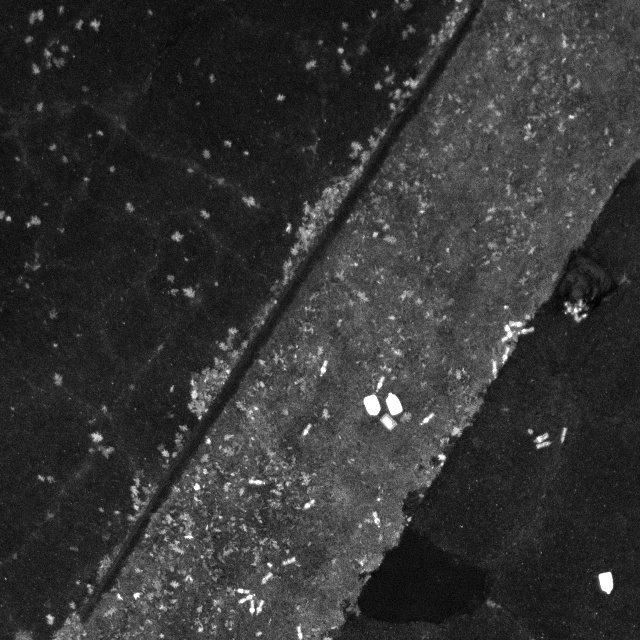bottle: (368, 509, 385, 532), (242, 476, 269, 489), (497, 342, 512, 365), (234, 585, 257, 599), (417, 413, 438, 428), (531, 438, 553, 452), (298, 421, 315, 439), (531, 428, 551, 443), (498, 331, 518, 344), (316, 358, 329, 378), (259, 569, 275, 585), (488, 360, 502, 378), (515, 325, 537, 336), (575, 311, 592, 325), (506, 318, 524, 330), (296, 500, 318, 509), (558, 427, 569, 444), (278, 559, 298, 567)
can: (586, 567, 619, 601), (357, 389, 386, 422), (381, 391, 412, 416)
container: (378, 416, 400, 432)
